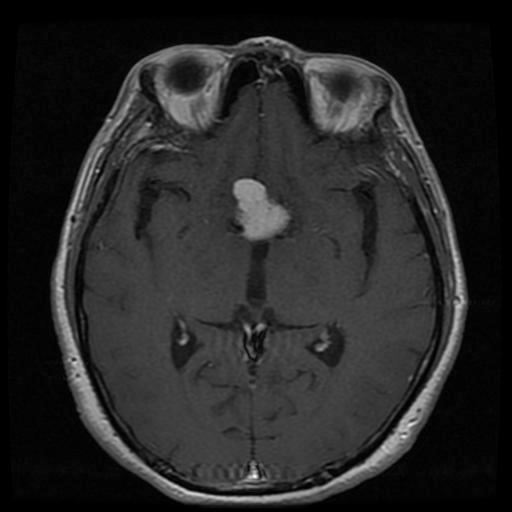Tumour-Meningioma: (222, 161, 309, 267)
